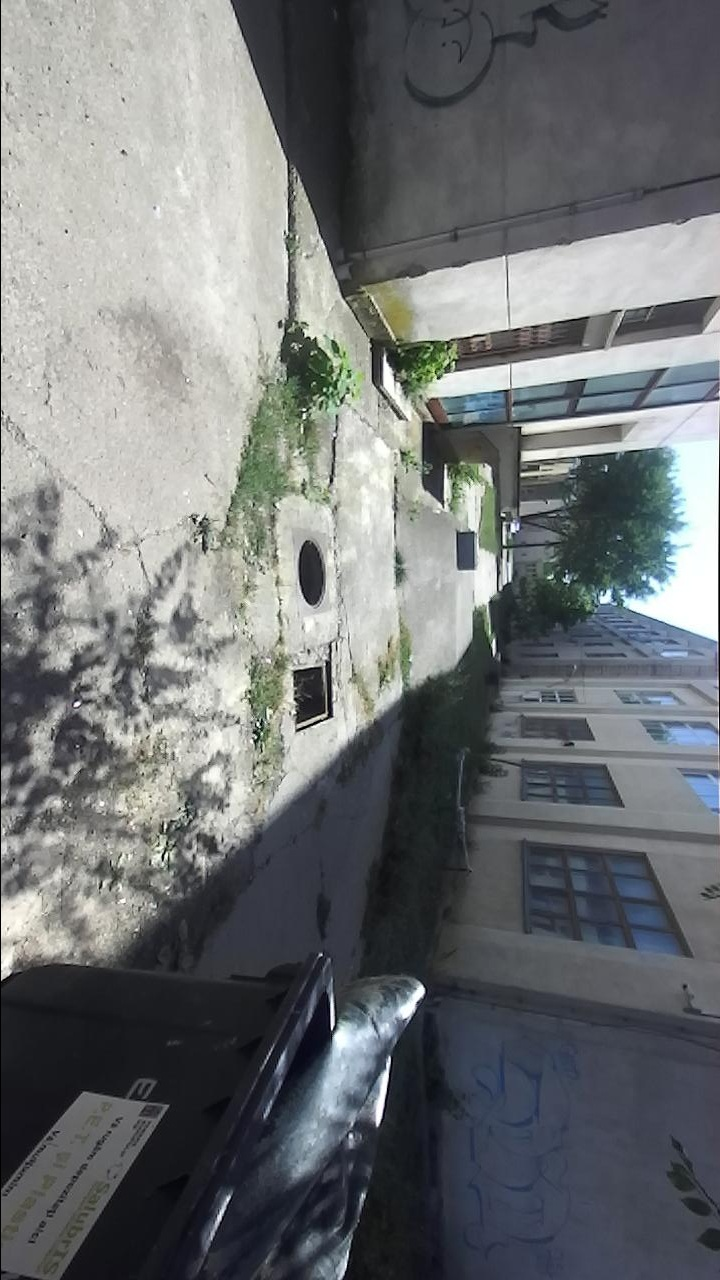drain: (288, 651, 338, 739), (295, 532, 336, 614)
